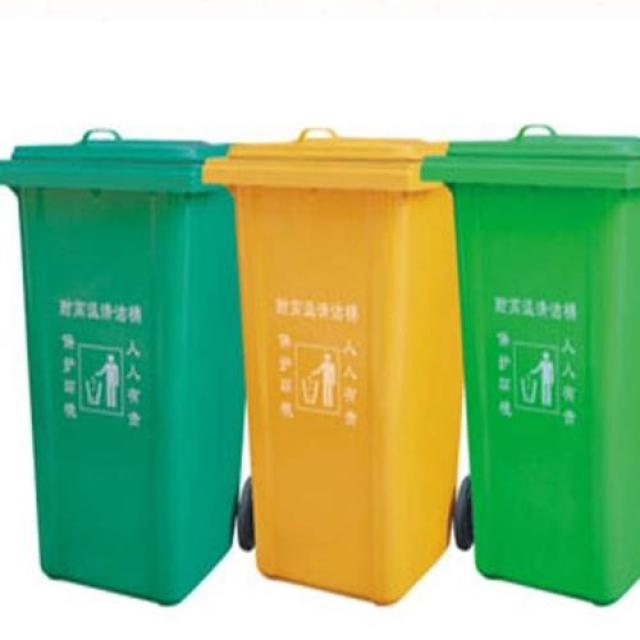garbage_bin: (201, 125, 461, 606), (0, 128, 246, 605), (418, 123, 638, 604)
